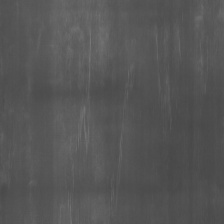silk_spot: (66, 17, 93, 157), (107, 57, 135, 172), (147, 30, 175, 116), (189, 10, 212, 92)
